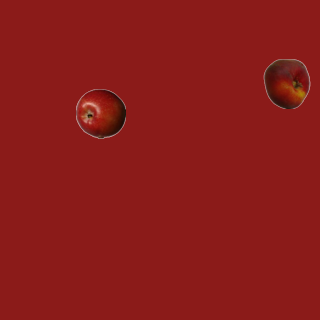Apple Braeburn: (75, 88, 125, 138)
Nectarine Flat: (261, 58, 311, 108)
